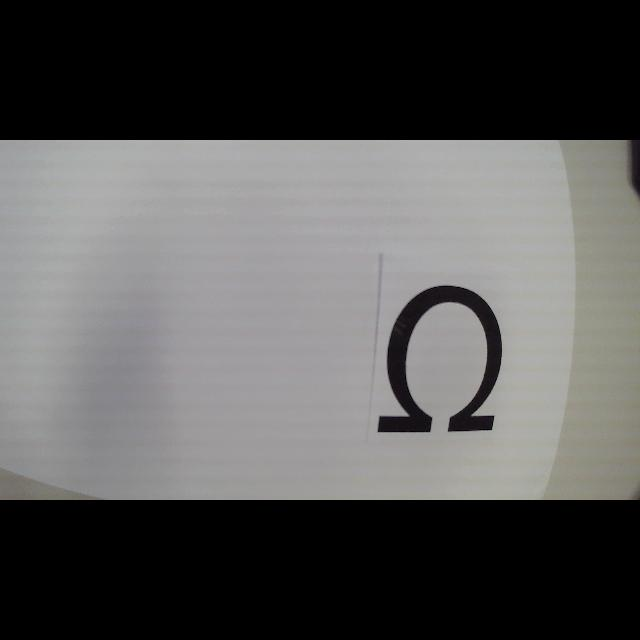OMEGA: (377, 285, 503, 433)
